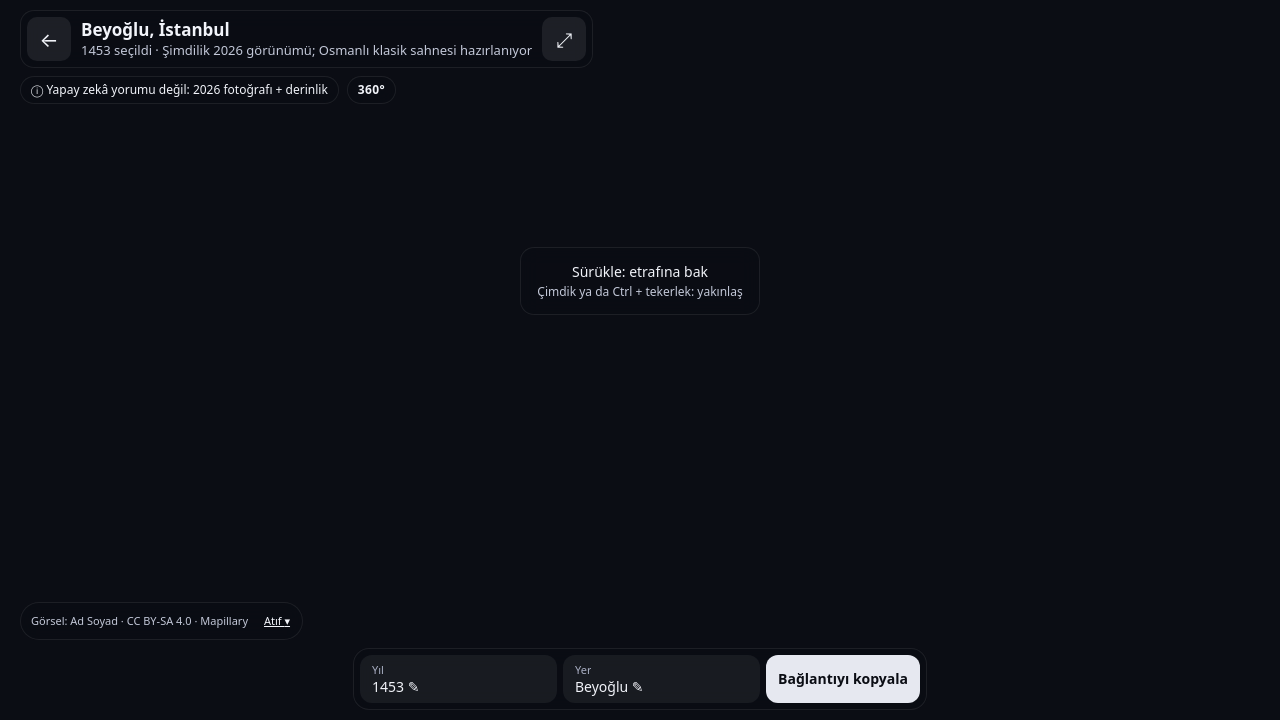
it: atıf › tek satır her zaman görünür; "Atıf ▾" tam atfı açar
Expected: the text "Görsel: Ad Soyad · CC BY-SA 4.0 · Mapillary" is shown, [31,614,248,628]
Expected: the link "OpenStreetMap katkıcıları" is not shown
Step 1. Click the button "Atıf ▾" → (277, 621), box [256,605,298,637]
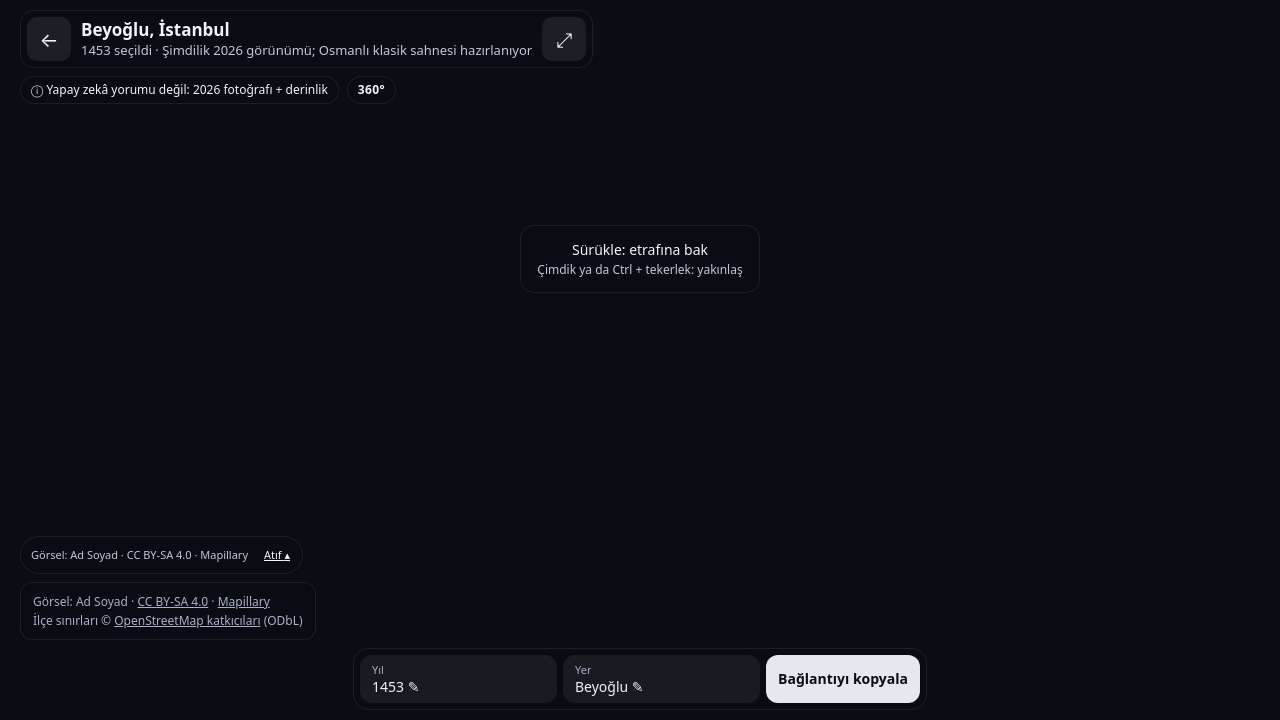
Now the button "Atıf ▴" is expanded, box [256,539,298,571]
Now the button "Atıf ▴" is shown, box [256,539,298,571]
Now the link "OpenStreetMap katkıcıları" is shown, box [114,612,260,629]
